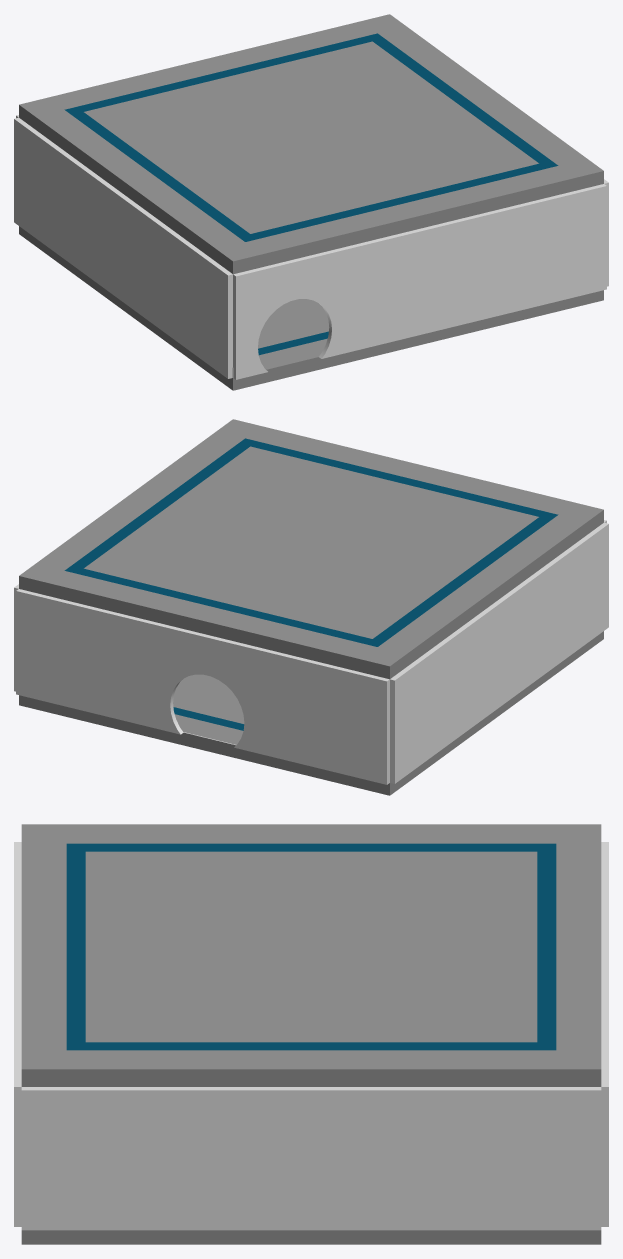
The model's file is WaitingRoom.FBX.
3 views of the same model, one above another, from view 1: azimuth 30°, elevation 25°; view 2: azimuth 150°, elevation 25°; view 3: azimuth 270°, elevation 25° (orthographic). The views are drawn at different scales.
Visible parts, largest first — view 1: Ceiling, Walls, Floor; view 2: Ceiling, Walls, Floor; view 3: Ceiling, Walls, Floor.
Part boxes in pixels (left/top/right/bottom): Ceiling: left=19, top=14, right=603, bottom=274; Walls: left=14, top=115, right=608, bottom=379; Floor: left=19, top=226, right=603, bottom=390; Ceiling: left=19, top=419, right=603, bottom=679; Walls: left=14, top=520, right=608, bottom=784; Floor: left=19, top=631, right=603, bottom=795; Ceiling: left=21, top=824, right=601, bottom=1086; Walls: left=14, top=842, right=608, bottom=1230; Floor: left=21, top=1230, right=601, bottom=1244.
Bounding box in the file's own units: 1540 × 500 × 1540.
